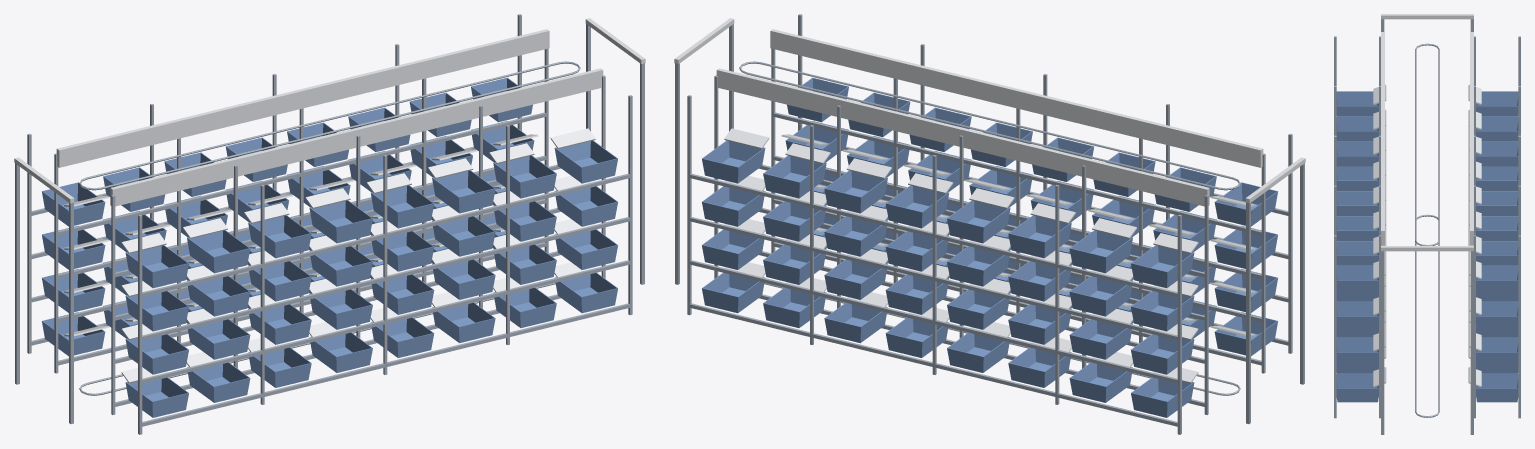
File: SM_MPR_SorterSimBody64_LOD2.fbx
3 renders of one model, left to right at view 1: azimuth 30°, elevation 25°; view 2: azimuth 150°, elevation 25°; view 3: azimuth 270°, elevation 25°, orthographic. The views are drawn at different scales.
Parts seen in each view (by area): view 1: SM_MPR_SorterSimBody64_LOD2; view 2: SM_MPR_SorterSimBody64_LOD2; view 3: SM_MPR_SorterSimBody64_LOD2.
Boxes of the visible parts, x1,y1,x2,y2 form: SM_MPR_SorterSimBody64_LOD2: (14,14,645,434); SM_MPR_SorterSimBody64_LOD2: (674,14,1305,434); SM_MPR_SorterSimBody64_LOD2: (1334,14,1520,434).
Bounding box in the file's own units: 620 × 209 × 232.
